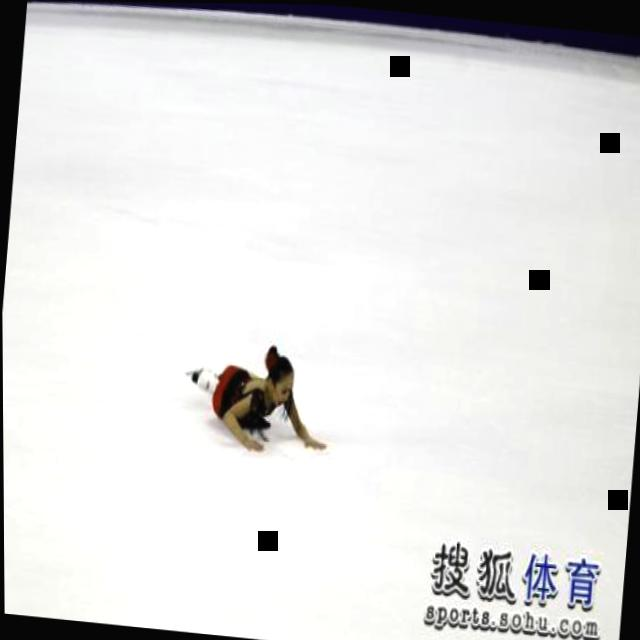Fall-Detected: (164, 311, 338, 464)
